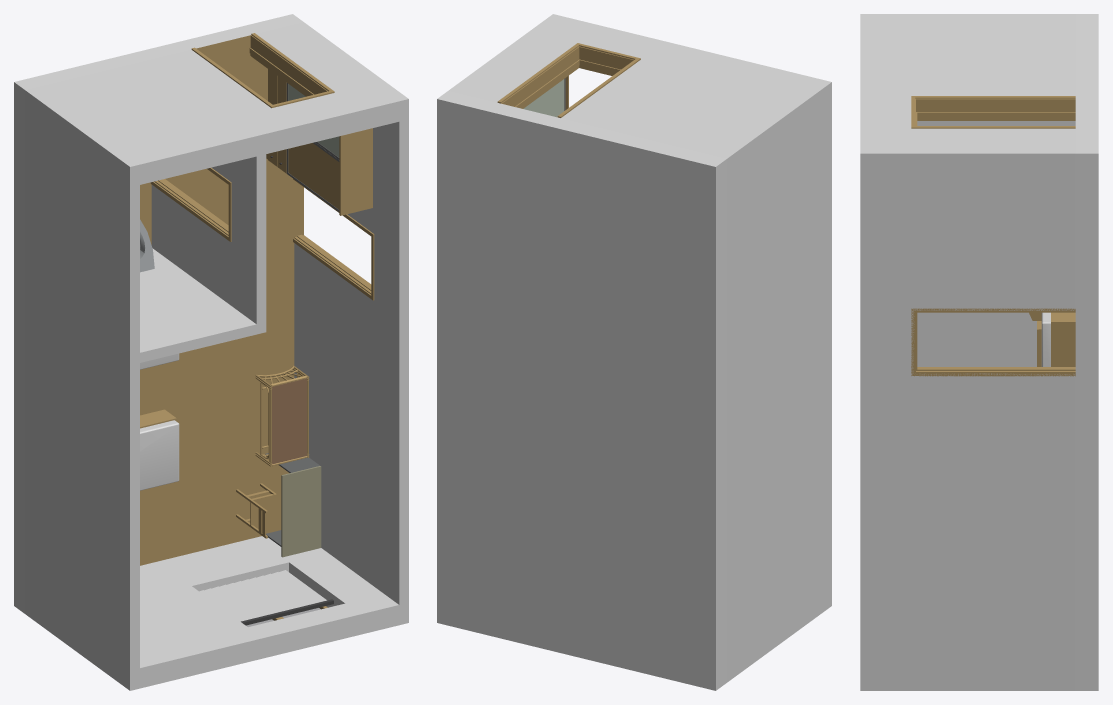
File: hotl-rm2.fbx
3 views of the same model, side by side, from view 1: azimuth 30°, elevation 25°; view 2: azimuth 150°, elevation 25°; view 3: azimuth 270°, elevation 25° (orthographic). The views are drawn at different scales.
Visible parts, largest first — view 1: 83:1:1, 72:1:1, 53:1:8, 107:1:1, 117:1:1, 72:2:1, 80:1:1, 53:1:8_2, 81:1:1, 60:2:6, 10:2:6_2, 64:17:6 (+7 smaller); view 2: 53:1:8_2, 72:1:1, 107:1:1, 72:2:1, 117:1:1, 106:1:5, 81:1:1, 9:21:6; view 3: 83:1:1, 107:1:1, 53:1:8_2, 72:1:1, 117:1:1, 106:1:5, 1:1:6, 106:8:5, 80:1:1, 84:2:5, 82:9:5, 84:3:5 (+4 smaller).
Boxes of the visible parts, x1,y1,x2,y2 form: 83:1:1: (294, 119, 408, 604); 72:1:1: (25, 289, 139, 670); 53:1:8: (140, 35, 303, 565); 107:1:1: (25, 22, 408, 187); 117:1:1: (25, 536, 408, 690); 72:2:1: (25, 111, 139, 355); 80:1:1: (151, 154, 266, 331); 53:1:8_2: (14, 14, 303, 613); 81:1:1: (25, 248, 265, 365); 60:2:6: (199, 570, 326, 621); 10:2:6_2: (281, 466, 321, 557); 64:17:6: (272, 378, 306, 464); 53:1:8_2: (437, 91, 726, 690); 72:1:1: (727, 280, 831, 661); 107:1:1: (448, 14, 831, 178); 72:2:1: (727, 102, 831, 346); 117:1:1: (727, 586, 831, 682); 106:1:5: (501, 46, 633, 117); 81:1:1: (727, 270, 831, 356); 9:21:6: (523, 79, 564, 117); 83:1:1: (860, 174, 1075, 669); 107:1:1: (860, 14, 1075, 174); 53:1:8_2: (1075, 14, 1098, 690); 72:1:1: (917, 312, 1036, 366); 117:1:1: (860, 670, 1075, 690); 106:1:5: (915, 98, 1075, 125); 1:1:6: (1029, 312, 1075, 366); 106:8:5: (917, 112, 1075, 120); 80:1:1: (917, 121, 1075, 125); 84:2:5: (912, 308, 1075, 311); 82:9:5: (917, 367, 1075, 370); 84:3:5: (912, 373, 1075, 376).
Size of the model in its own units: 4.3 by 7.74 by 3.1.
